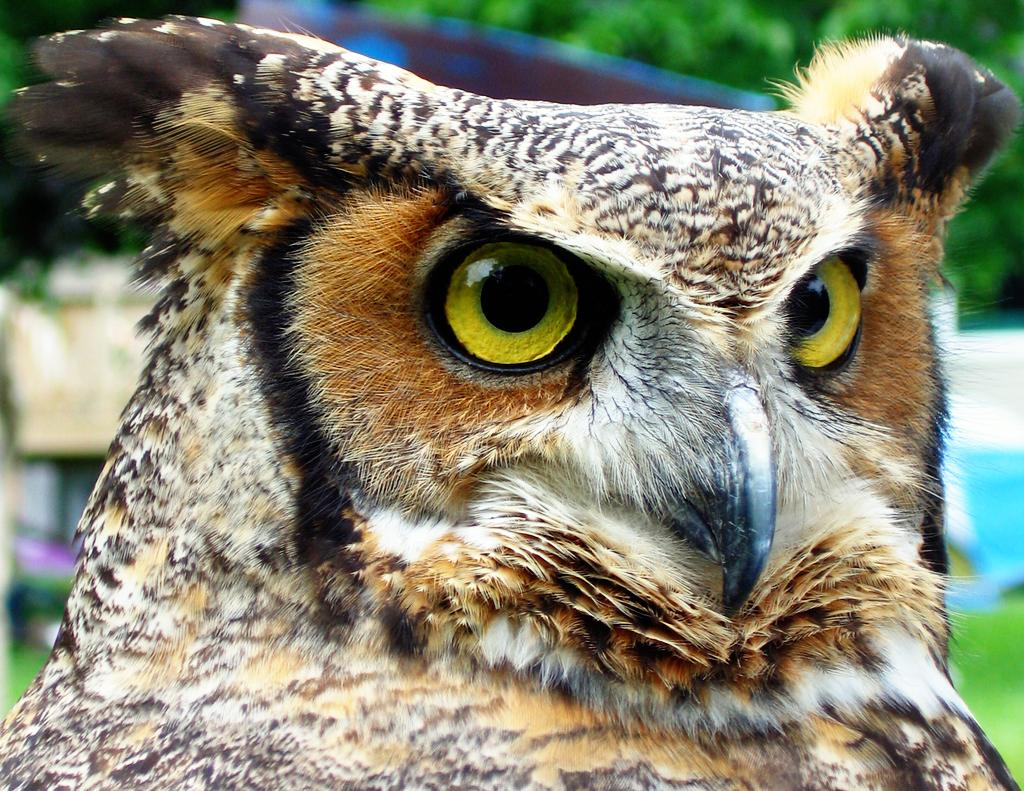Owl: (0, 7, 1023, 788)
